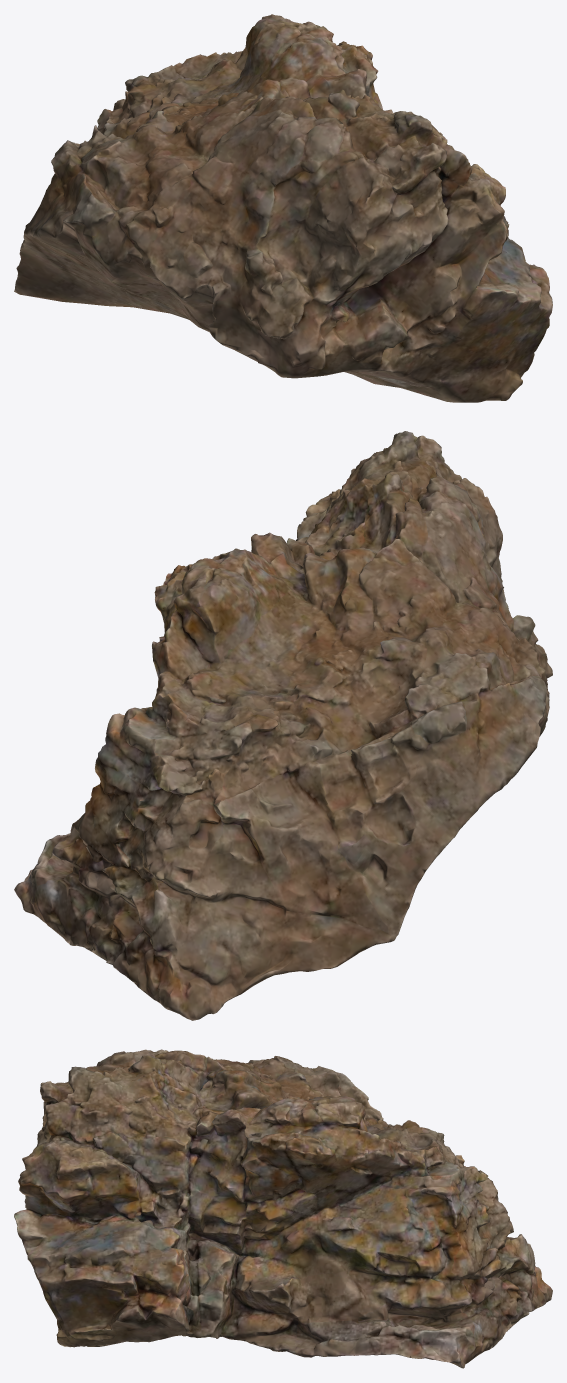
Rendered from boulder-mid.glb.
3 renders of one model, top to bottom at view 1: azimuth 30°, elevation 25°; view 2: azimuth 150°, elevation 25°; view 3: azimuth 270°, elevation 25°, orthographic. The views are drawn at different scales.
Visible parts, largest first — view 1: boulder_01; view 2: boulder_01; view 3: boulder_01.
Boxes of the visible parts, x1=… form: boulder_01: x1=14, y1=14, x2=552, y2=402; boulder_01: x1=14, y1=431, x2=552, y2=1020; boulder_01: x1=14, y1=1049, x2=552, y2=1368.
Bounding box in the file's own units: 1.27 × 1 × 1.83.
Materials: 1 (1 with a texture image).
